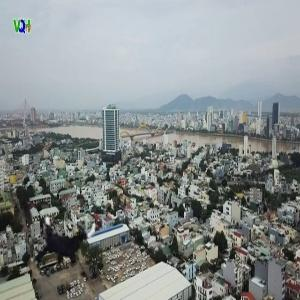drone: (22, 200, 103, 281)
